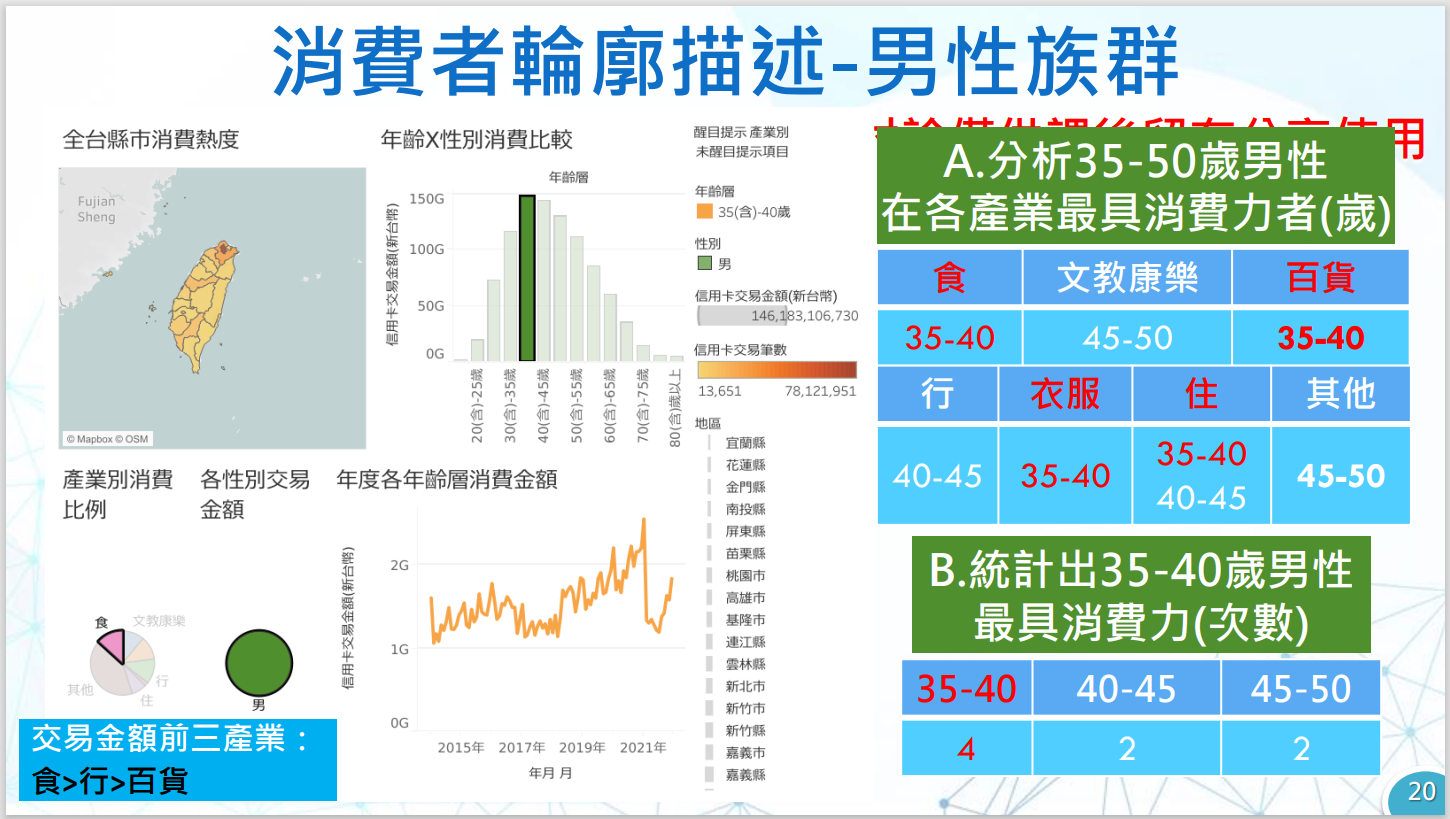

This screenshot's page, from the dashboard's own definition file:
{"tool":"tableau","page":{"name":"儀表板窗格 1","canvas":[1000,1000],"units":"permille","ordinal":0},"visuals":[{"type":"worksheet","title":"全台縣市消費熱度","mark":"Multipolygon","box":[4.8,9.4,446.9,490.6]},{"type":"worksheet","title":"年齡X性別消費比較","mark":"Automatic","rows":["信用卡交易金額(新台幣)"],"cols":["年齡層"],"box":[451.7,9.4,446.9,490.6]},{"type":"highlighter","title":"產業別消費比例","param":"[federated.0g2oetc1v2s88r16os5ns0wi0wuw].[none:產業別:nk]","box":[898.6,9.4,96.6,65.7]},{"type":"legend","title":"年度各年齡層消費金額","param":"[federated.0g2oetc1v2s88r16os5ns0wi0wuw].[none:年齡層:nk]","box":[898.6,75.1,96.6,342.7]},{"type":"legend","title":"年齡X性別消費比較","param":"[federated.0g2oetc1v2s88r16os5ns0wi0wuw].[none:性別:nk]","box":[898.6,417.8,96.6,84.5]},{"type":"worksheet","title":"產業別消費比例","mark":"Pie","box":[4.8,500,192.8,490.6]},{"type":"worksheet","title":"各性別交易金額","mark":"Pie","box":[197.6,500,192.2,490.6]},{"type":"worksheet","title":"年度各年齡層消費金額","mark":"Automatic","rows":["信用卡交易金額(新台幣)"],"cols":["年月"],"box":[389.8,500,508.8,490.6]},{"type":"legend","title":"各性別交易金額","param":"[federated.0g2oetc1v2s88r16os5ns0wi0wuw].[sum:信用卡交易金額(新台幣):qk]","box":[898.6,502.4,96.6,59.9]},{"type":"legend","title":"全台縣市消費熱度","param":"[federated.0g2oetc1v2s88r16os5ns0wi0wuw].[sum:信用卡交易金額(新台幣):qk]","box":[898.6,562.2,96.6,85.7]},{"type":"legend","title":"全台縣市消費熱度","param":"[federated.0g2oetc1v2s88r16os5ns0wi0wuw].[none:地區:nk]","box":[898.6,647.9,96.6,342.7]}]}

Visuals, with their boxes on the dashboard's canvas, which has no fixed pixel size, in thousandths of its width and height (x1, y1, x2, y2). These are canvas units, not pixel positions in the 1450x819 screenshot, which may show the page scaled, cropped or inside an application window:
"全台縣市消費熱度" worksheet (Multipolygon marks): BBox(5, 9, 452, 500)
"年齡X性別消費比較" worksheet: BBox(452, 9, 899, 500)
"產業別消費比例" highlighter: BBox(899, 9, 995, 75)
"年度各年齡層消費金額" legend: BBox(899, 75, 995, 418)
"年齡X性別消費比較" legend: BBox(899, 418, 995, 502)
"產業別消費比例" worksheet (Pie marks): BBox(5, 500, 198, 991)
"各性別交易金額" worksheet (Pie marks): BBox(198, 500, 390, 991)
"年度各年齡層消費金額" worksheet: BBox(390, 500, 899, 991)
"各性別交易金額" legend: BBox(899, 502, 995, 562)
"全台縣市消費熱度" legend: BBox(899, 562, 995, 648)
"全台縣市消費熱度" legend: BBox(899, 648, 995, 991)
